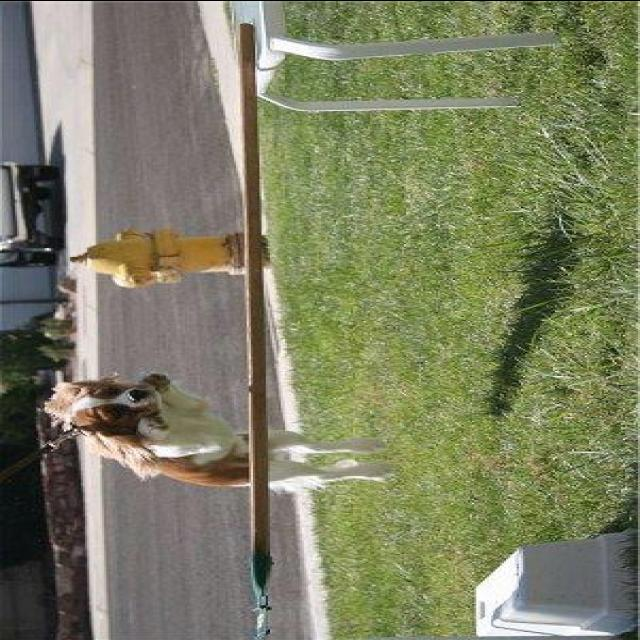blenheim_spaniel: (44, 366, 396, 494)
